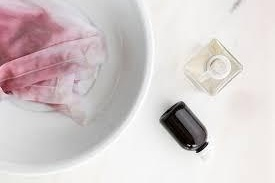wine: (1, 0, 94, 98)
